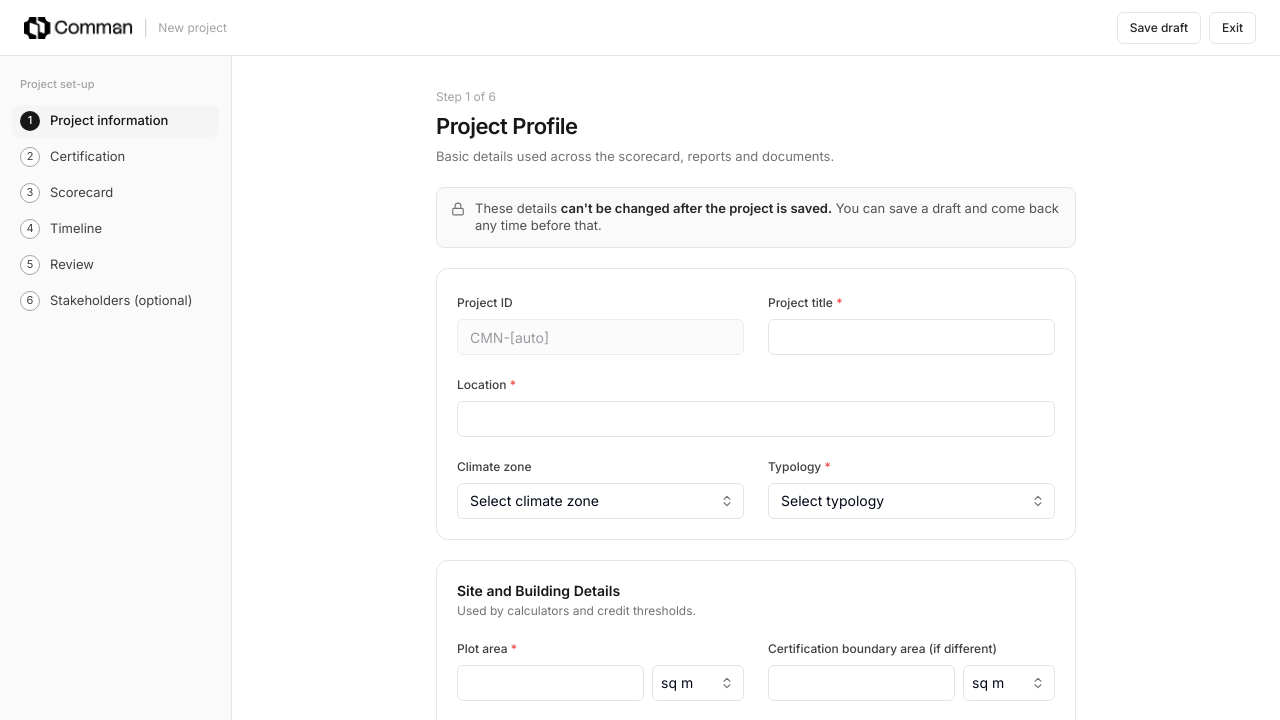
Test: NewProjectPage › opens later wizard steps as placeholders
The image size is (1280, 720).
Step 1. Click the button with test id "wizard-step-5" → coordinates (116, 264), box [12,248,219,280]
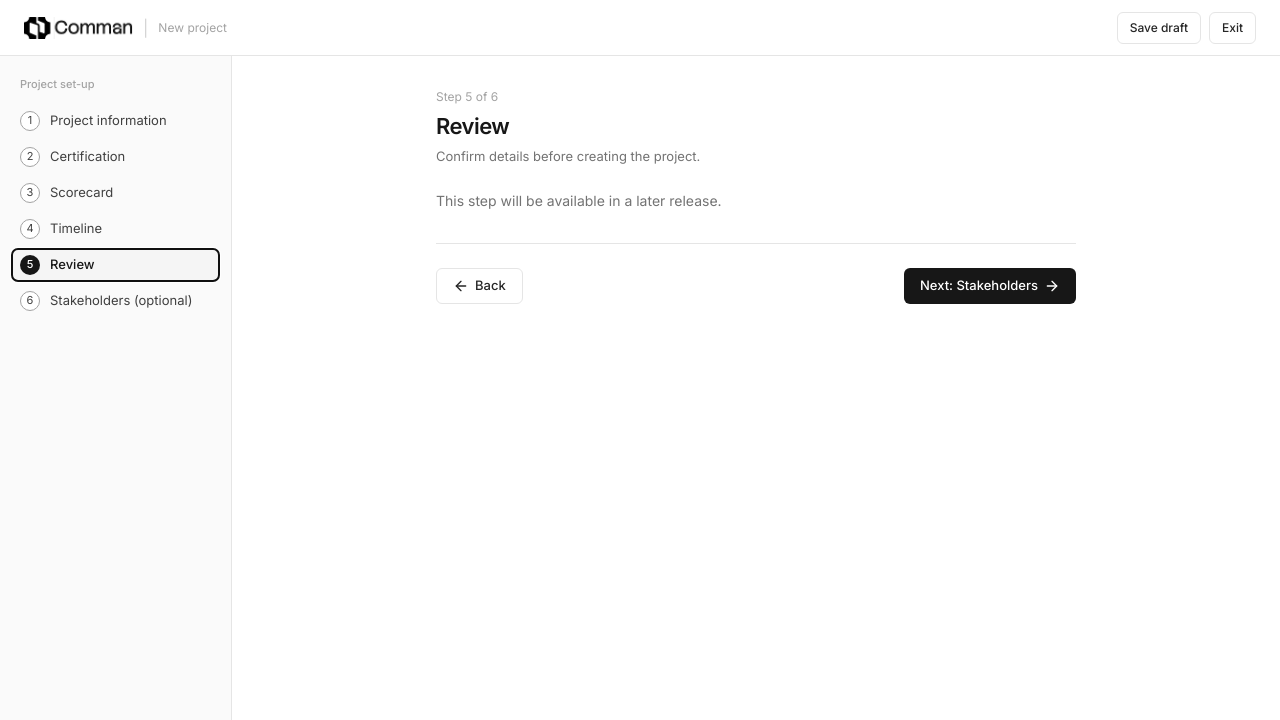
Expected: the heading "Review" is shown, [436,113,509,139]
Expected: the text "This step will be available in a later release." is shown, [436,192,722,208]
